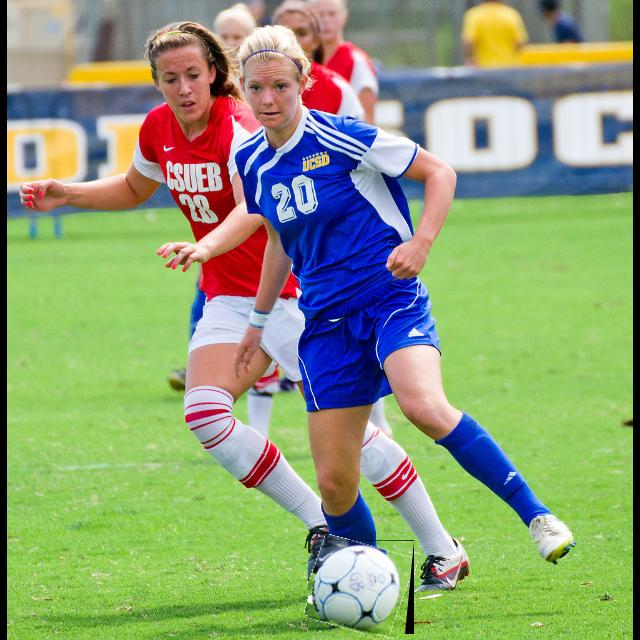Football: (308, 540, 414, 634)
